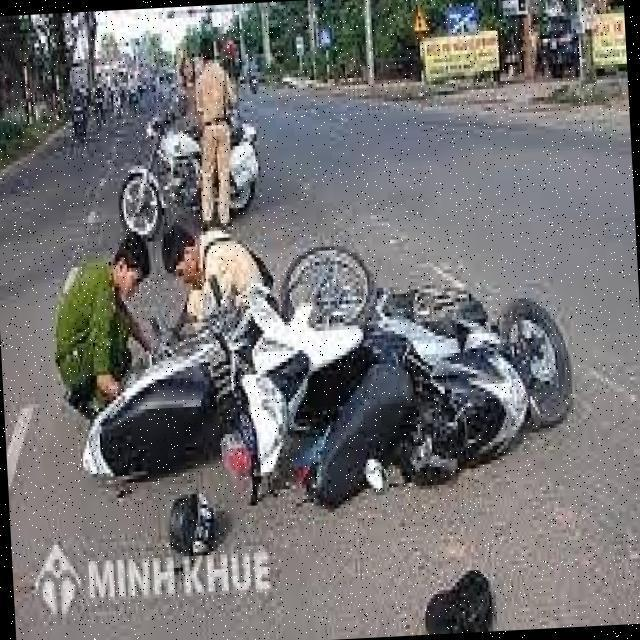accident: (52, 196, 598, 543)
